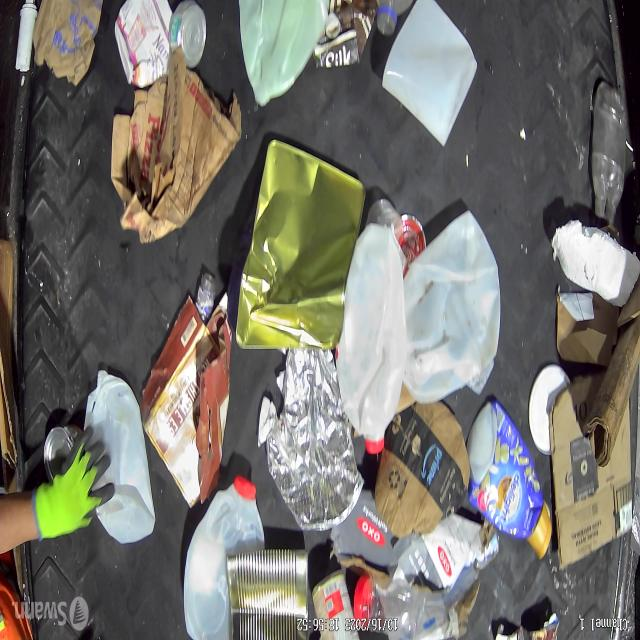can: (227, 547, 308, 640), (312, 568, 357, 640), (168, 1, 206, 66), (42, 422, 81, 483)
milk_jug: (401, 209, 500, 405), (336, 222, 406, 455), (381, 0, 478, 148), (183, 477, 265, 640), (88, 368, 155, 543), (238, 0, 328, 108)
non_white_jug: (464, 397, 552, 561)
plastic_bottle: (354, 585, 438, 640)
